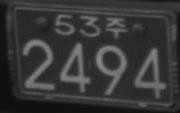2: (21, 38, 55, 91)
3: (79, 14, 100, 37)
4: (133, 47, 166, 99), (59, 42, 91, 93)
5: (53, 13, 75, 36)
9: (95, 43, 128, 96)
주: (104, 16, 127, 38)
